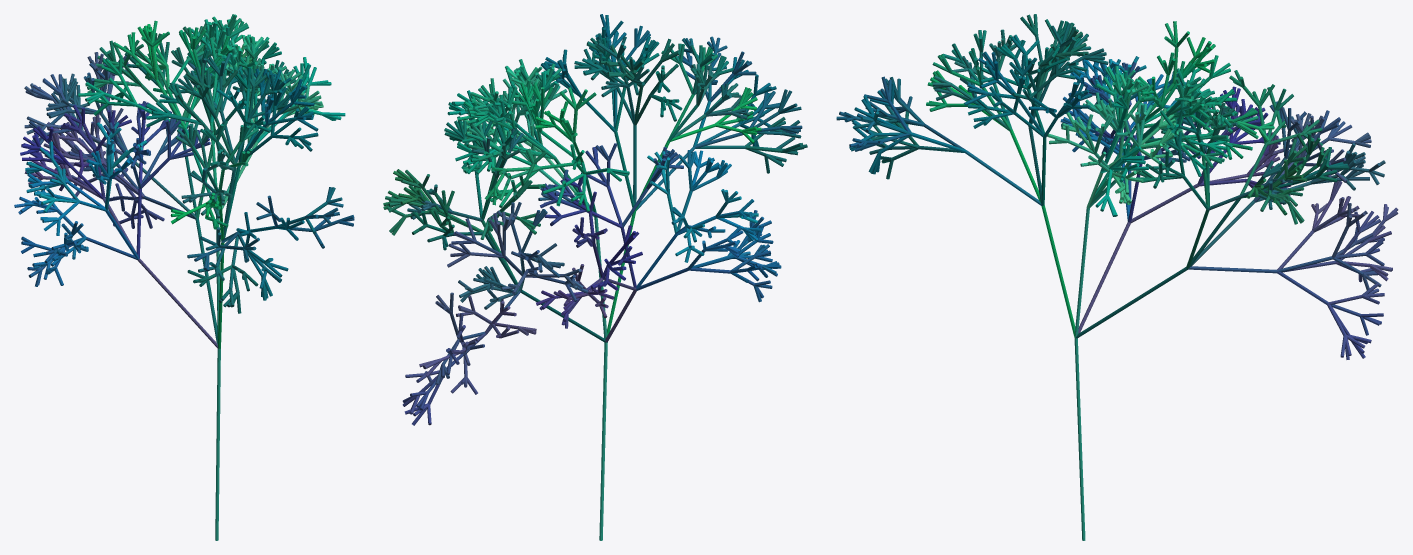
3 views of the same model, side by side, from view 1: azimuth 30°, elevation 25°; view 2: azimuth 150°, elevation 25°; view 3: azimuth 270°, elevation 25° (orthographic). The views are drawn at different scales.
Parts seen in each view (by area): view 1: Cylinder.001, Cylinder.1065, Cylinder.708; view 2: Cylinder.001; view 3: Cylinder.001.
Boxes of the visible parts, bbox=[...] form: Cylinder.001: bbox=[215, 348, 220, 540]; Cylinder.1065: bbox=[137, 258, 218, 348]; Cylinder.708: bbox=[195, 218, 217, 343]; Cylinder.001: bbox=[599, 342, 607, 540]; Cylinder.001: bbox=[1074, 338, 1085, 540].
Bounding box in the file's own units: 6.84 × 10.17 × 10.14.
